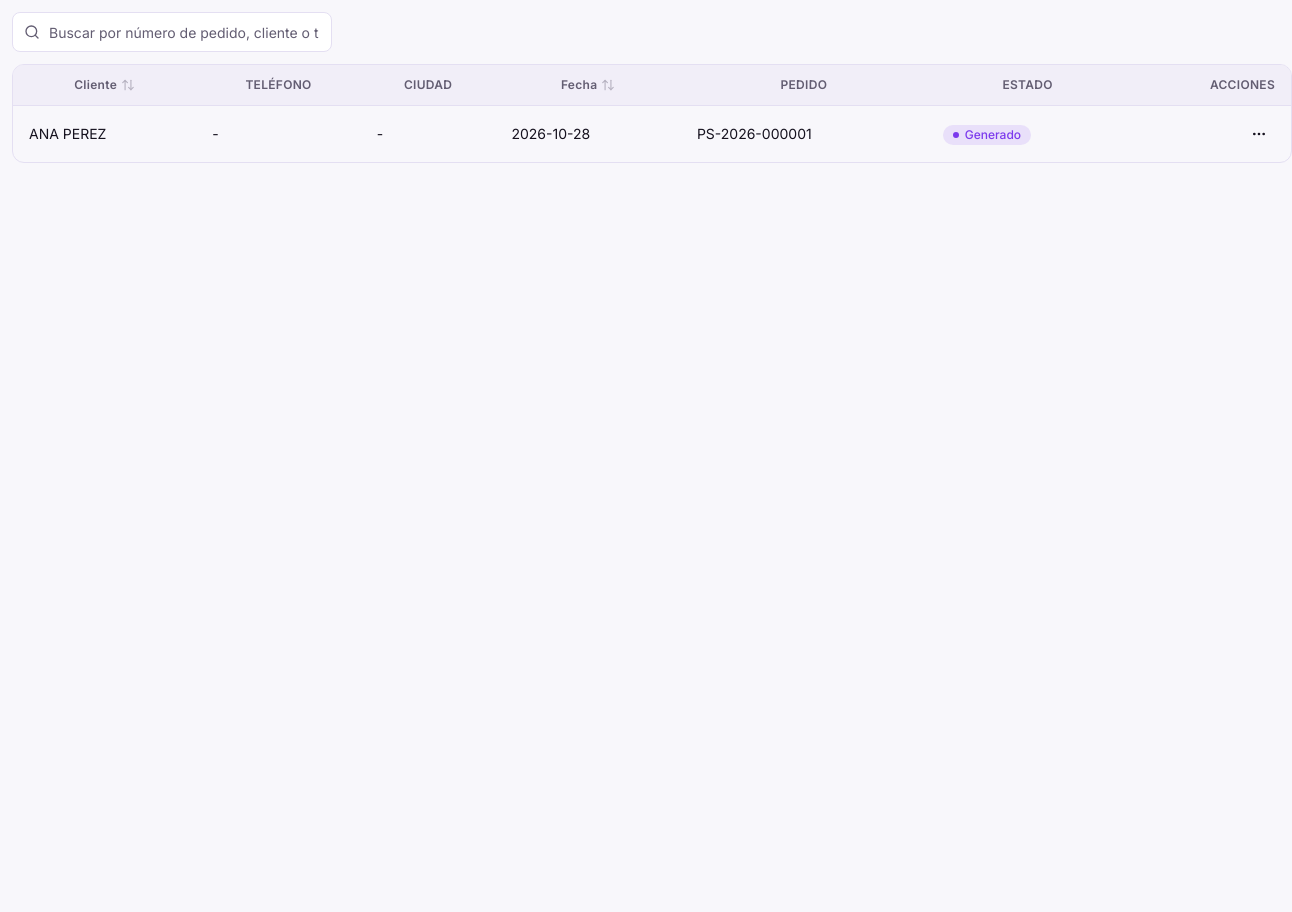
it: HistoryTable › loads browser labels and persists a duplicated record
Expected: the text "ANA PEREZ" is shown, [13,106,196,162]
Click the button named "Acciones para el rótulo PS-2026-000001" at {"x": 1259, "y": 134}, box [1243,118,1275,150]
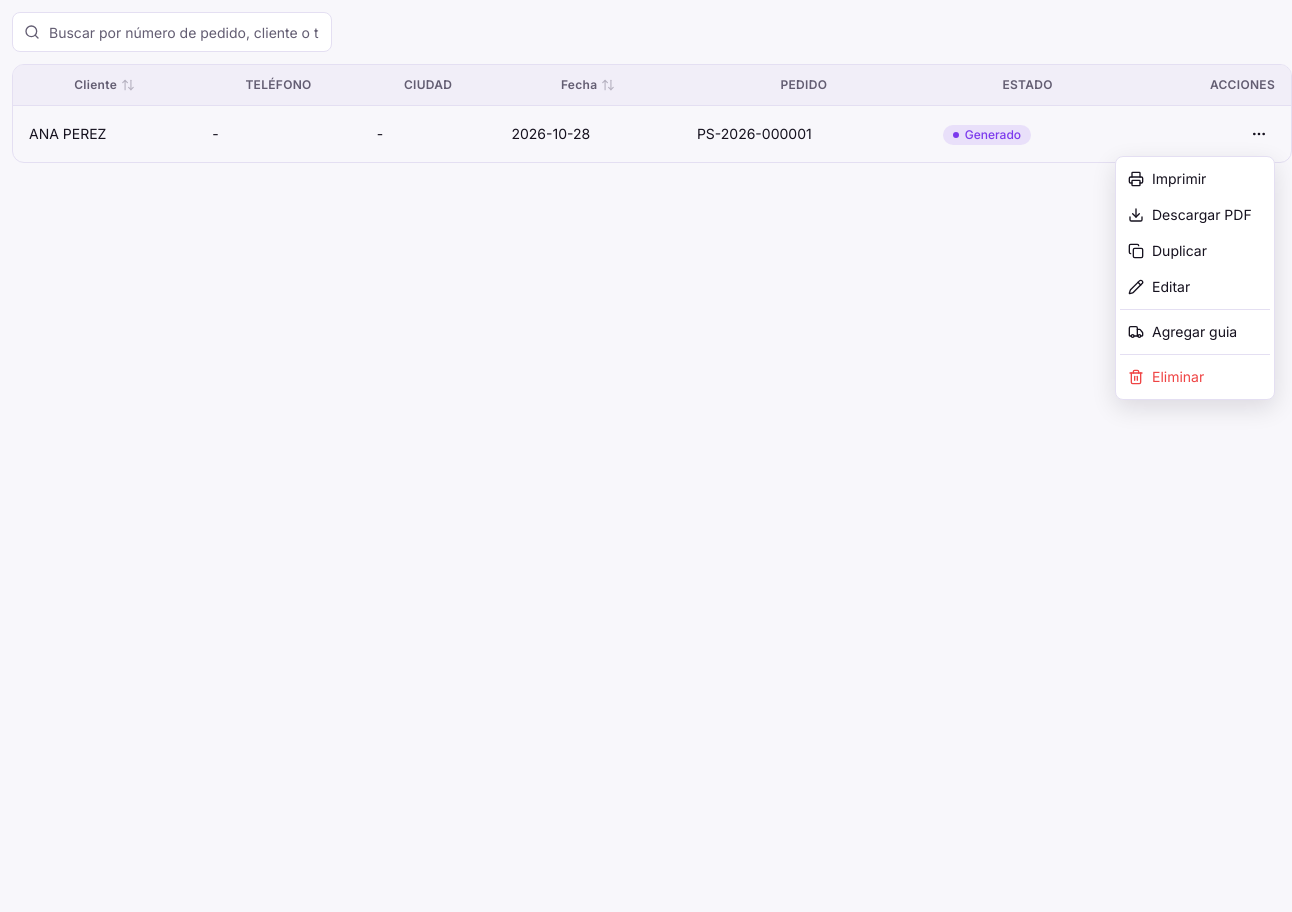
Click the menu item "Duplicar" at {"x": 1168, "y": 250}, box [1128,242,1207,259]
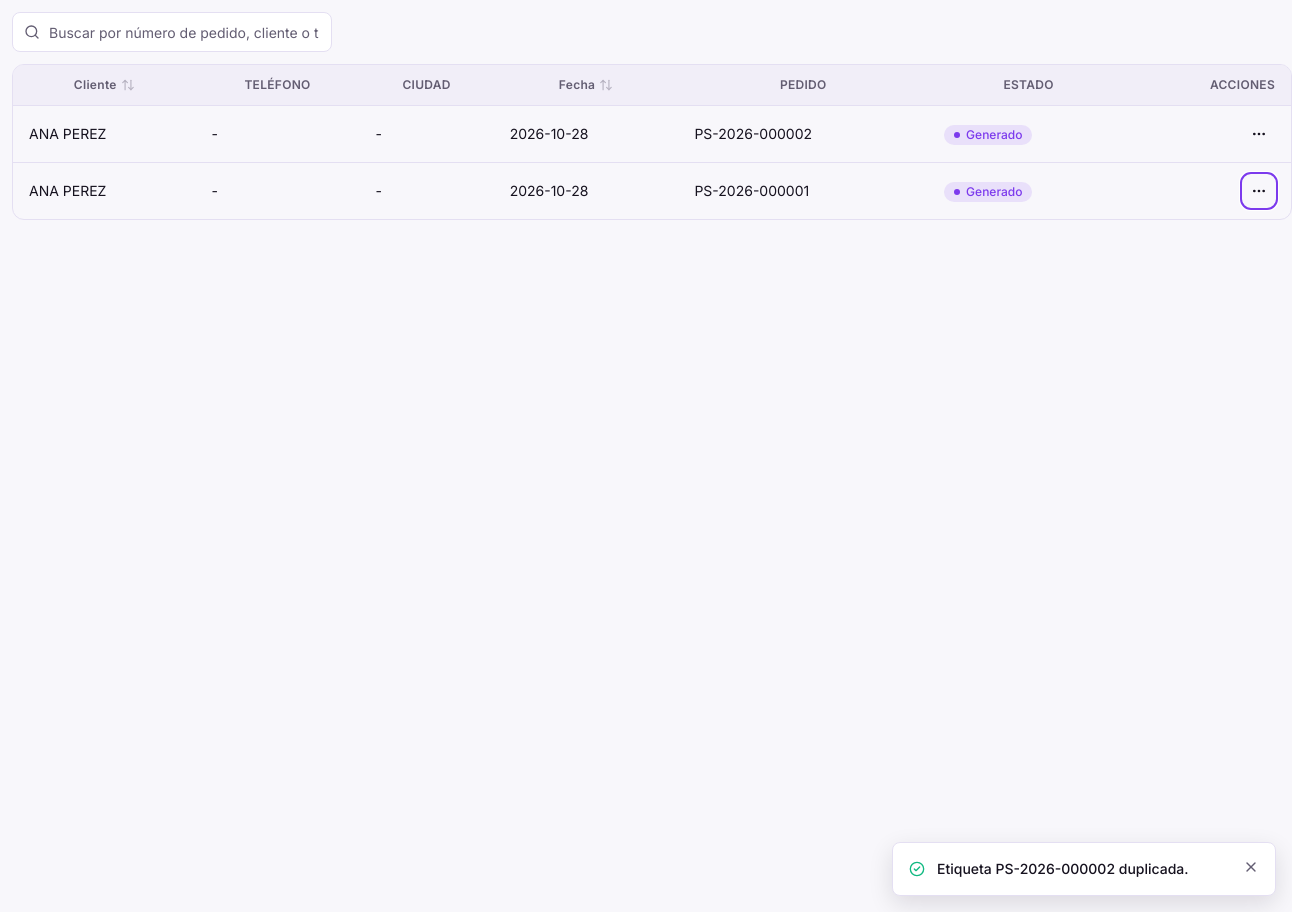
Expected: the text "Etiqueta PS-2026-000002 duplicada." is shown, [937,859,1231,879]
